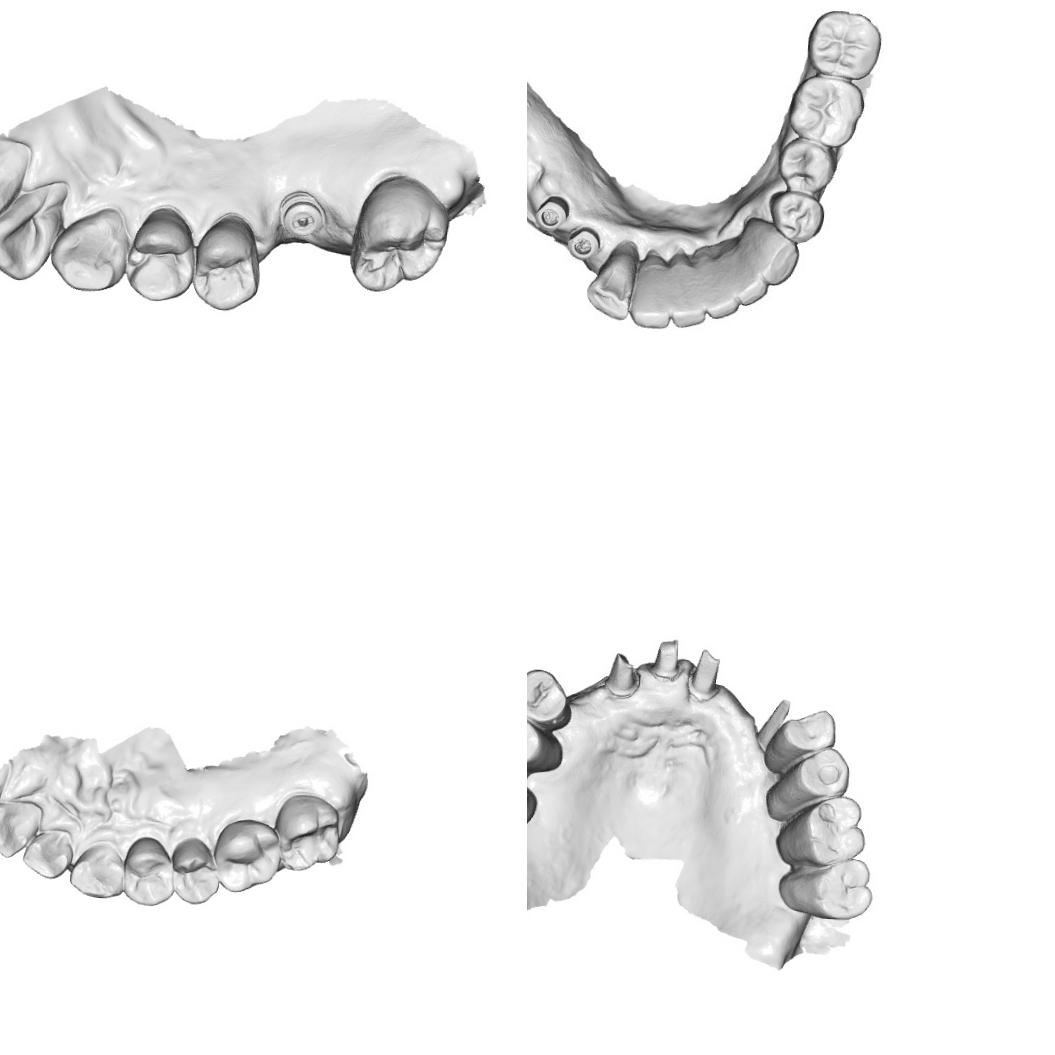canine: (48, 204, 133, 296), (586, 239, 639, 324), (744, 214, 800, 288), (68, 841, 125, 900)
crown: (753, 696, 795, 754), (686, 647, 722, 704), (603, 652, 638, 700), (650, 638, 682, 683)
implant: (530, 185, 570, 228), (564, 228, 601, 264)
implant_minus: (279, 190, 328, 238)
incisor: (0, 188, 62, 282), (630, 248, 676, 331), (718, 242, 768, 306), (0, 134, 32, 228), (697, 250, 742, 316), (20, 827, 75, 881), (672, 249, 708, 330), (0, 799, 43, 861)
molar: (346, 172, 453, 296), (775, 791, 867, 870), (776, 855, 873, 922), (272, 792, 342, 873), (807, 5, 884, 77), (786, 74, 863, 146), (211, 818, 282, 894)
premolar: (188, 212, 264, 314), (124, 206, 196, 304), (764, 746, 850, 824), (762, 707, 837, 776), (122, 835, 176, 908), (170, 836, 221, 906), (772, 188, 829, 244), (527, 667, 573, 730), (780, 142, 834, 192), (527, 706, 565, 775)
